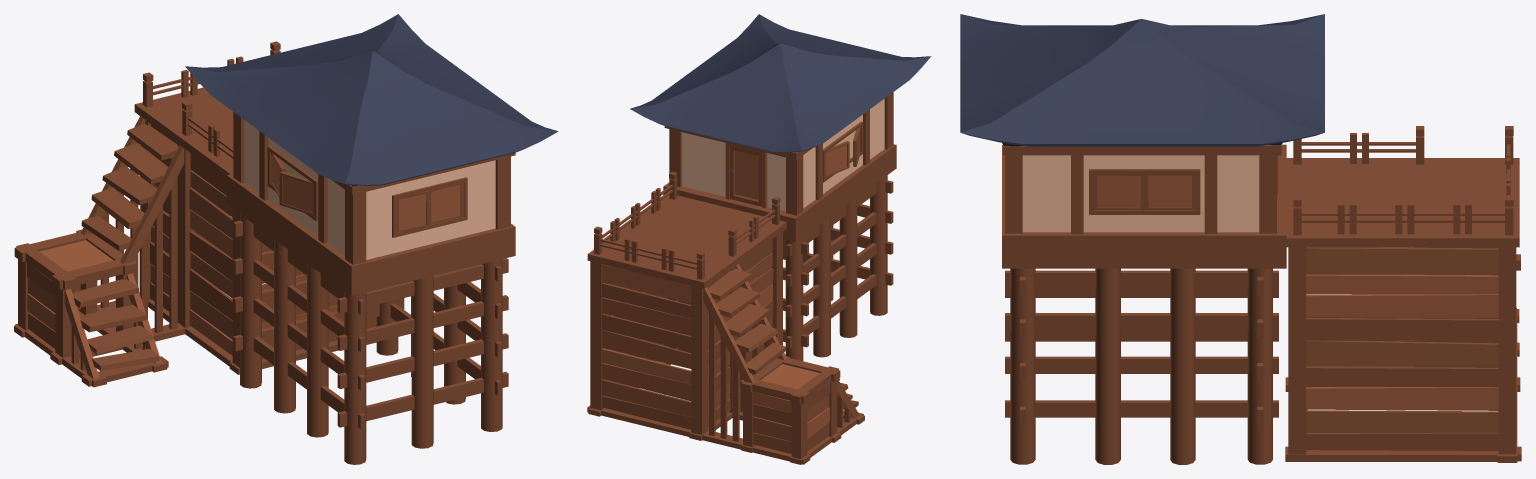
Rendered from houme019_1.fbx.
The picture shows the model from 3 angles, left to right: view 1: azimuth 30°, elevation 25°; view 2: azimuth 150°, elevation 25°; view 3: azimuth 270°, elevation 25°; orthographic projection. The views are drawn at different scales.
Visible parts, largest first — view 1: houme19_1, stairs_19_1_1, high_base_of_the_house_19_1_1; view 2: stairs_19_1_1, houme19_1, high_base_of_the_house_19_1_1; view 3: houme19_1, stairs_19_1_1, high_base_of_the_house_19_1_1.
Boxes of the visible parts, x1=… form: houme19_1: x1=185, y1=14, x2=558, y2=295; stairs_19_1_1: x1=14, y1=41, x2=376, y2=387; high_base_of_the_house_19_1_1: x1=233, y1=214, x2=508, y2=464; stairs_19_1_1: x1=587, y1=171, x2=864, y2=464; houme19_1: x1=630, y1=14, x2=931, y2=242; high_base_of_the_house_19_1_1: x1=783, y1=175, x2=893, y2=360; houme19_1: x1=960, y1=14, x2=1324, y2=268; stairs_19_1_1: x1=1285, y1=126, x2=1521, y2=462; high_base_of_the_house_19_1_1: x1=1005, y1=268, x2=1278, y2=464.
Bounding box in the file's own units: 886 × 1000 × 1258.
